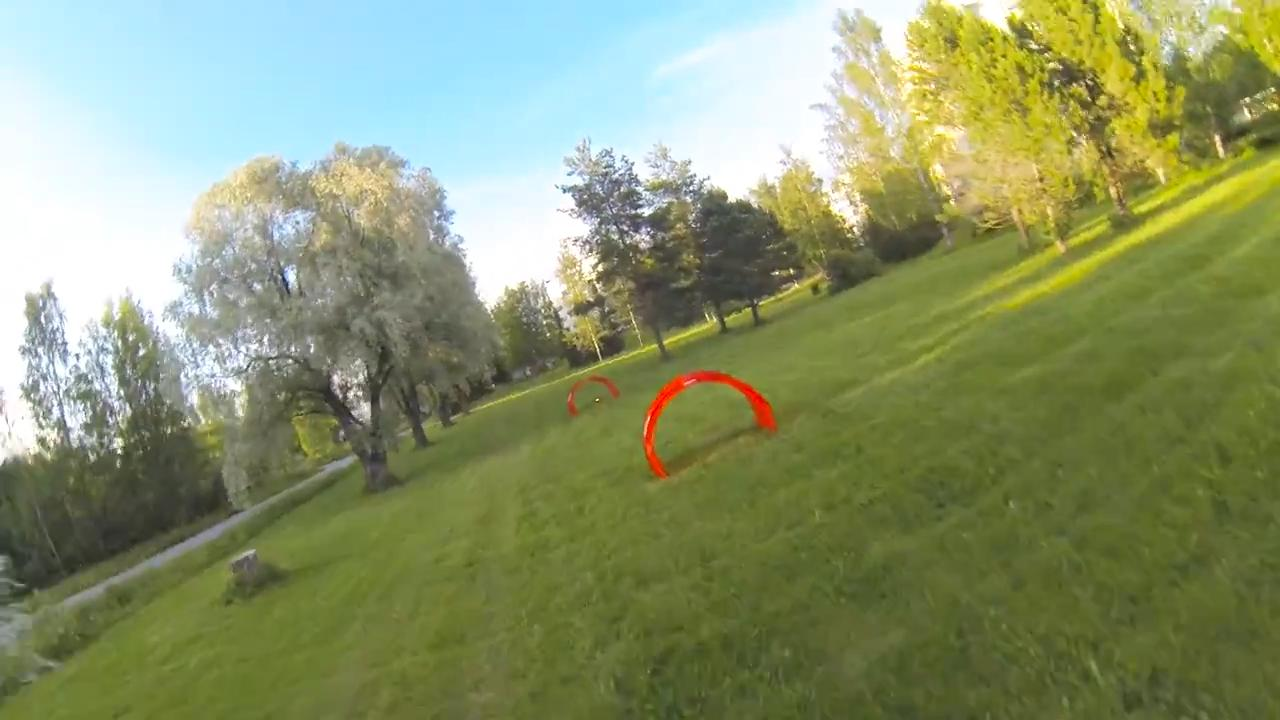gate: (640, 366, 783, 478)
